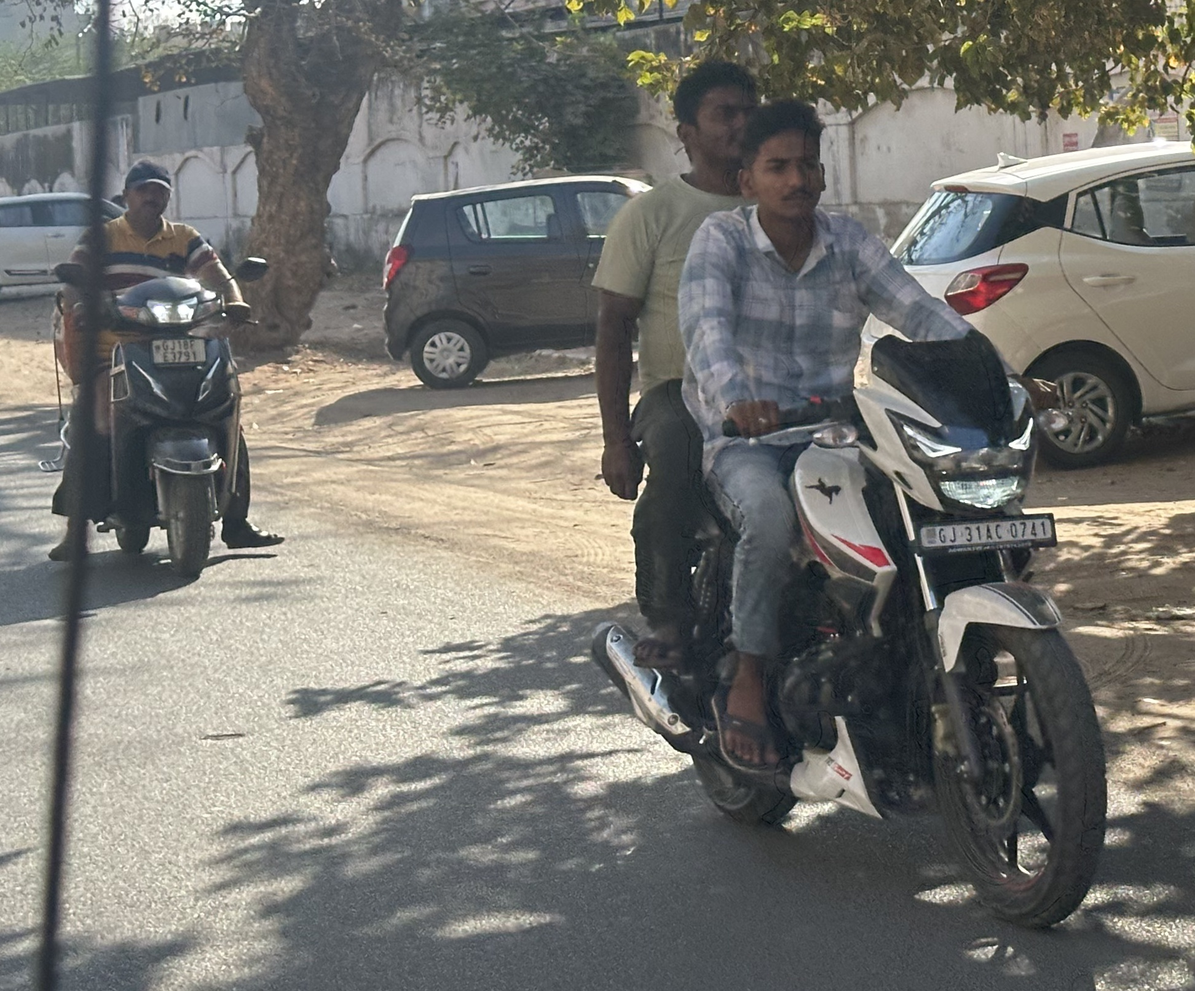BikeWithRider: (577, 49, 1124, 942), (31, 151, 294, 590)
NoHelmet: (662, 52, 769, 193), (733, 90, 838, 232), (111, 152, 185, 237)
